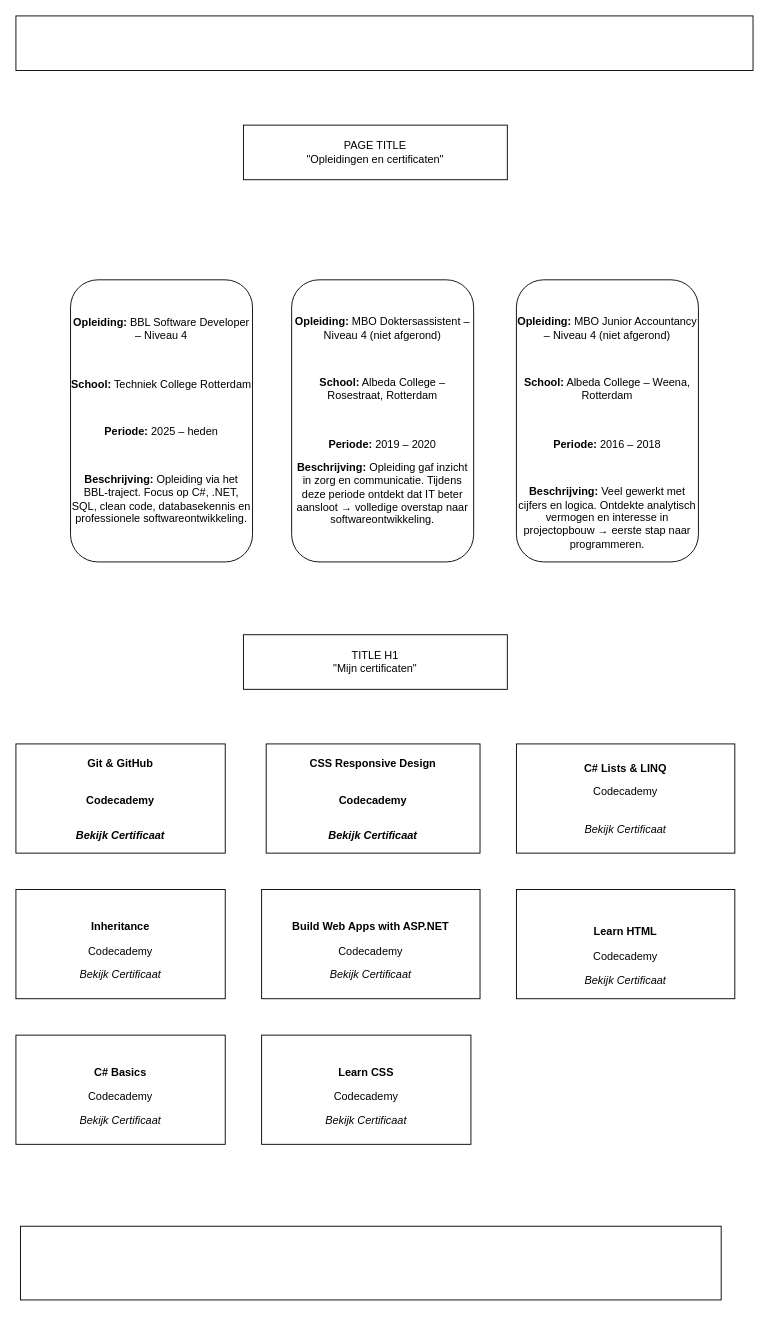
The diagram is 769 pixels wide and 1326 high, and some of its shapes have lost their labels. Here are the shapes that lost their labels. From the top down, the centre of each, then its label:
At [384,43]: "HEADER | [Logo] Home | Over mij | Opleidingen | Werkervaring | ...".
At [370,1262]: "FOOTER Tekst + Social Icons (Contact + GitHub)".
